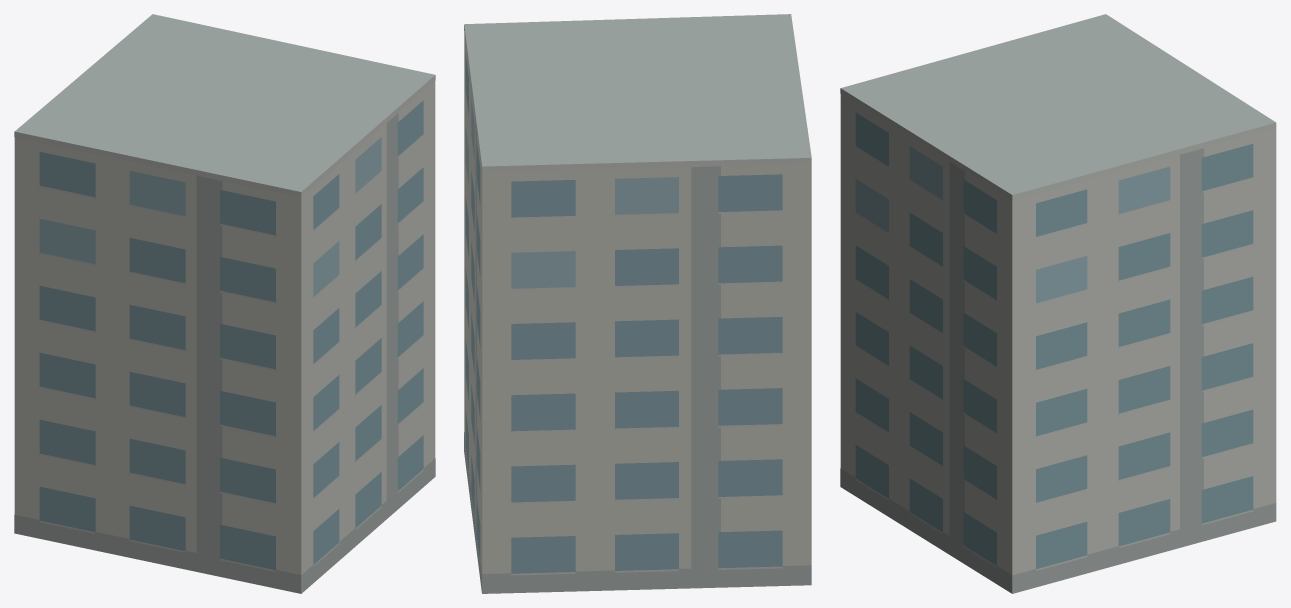
The model's file is survey-upis-32891028.glb.
3 views of the same model, side by side, from view 1: azimuth 30°, elevation 25°; view 2: azimuth 150°, elevation 25°; view 3: azimuth 270°, elevation 25° (orthographic). The views are drawn at different scales.
Visible parts, largest first — view 1: survey-upis-32891028.tmp; view 2: survey-upis-32891028.tmp; view 3: survey-upis-32891028.tmp.
Boxes of the visible parts, left/top/right/bottom form: survey-upis-32891028.tmp: left=14, top=14, right=435, bottom=593; survey-upis-32891028.tmp: left=464, top=14, right=811, bottom=593; survey-upis-32891028.tmp: left=840, top=14, right=1276, bottom=593.
Size of the model in its own units: 16.71 by 17.15 by 16.99.
